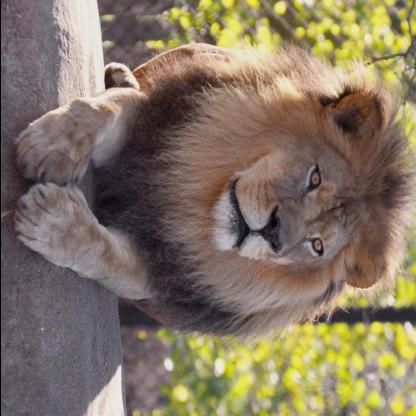lion: (176, 58, 413, 346)
